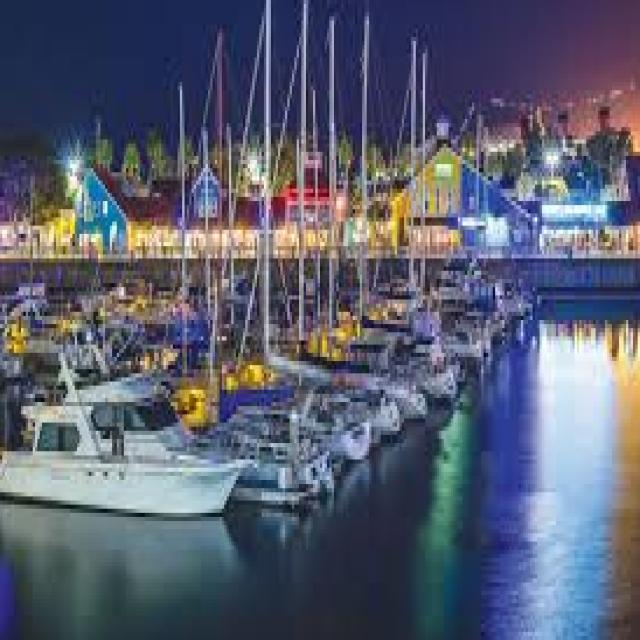houseboat: (0, 336, 238, 509)
